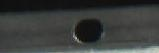holes: (72, 17, 104, 43)
